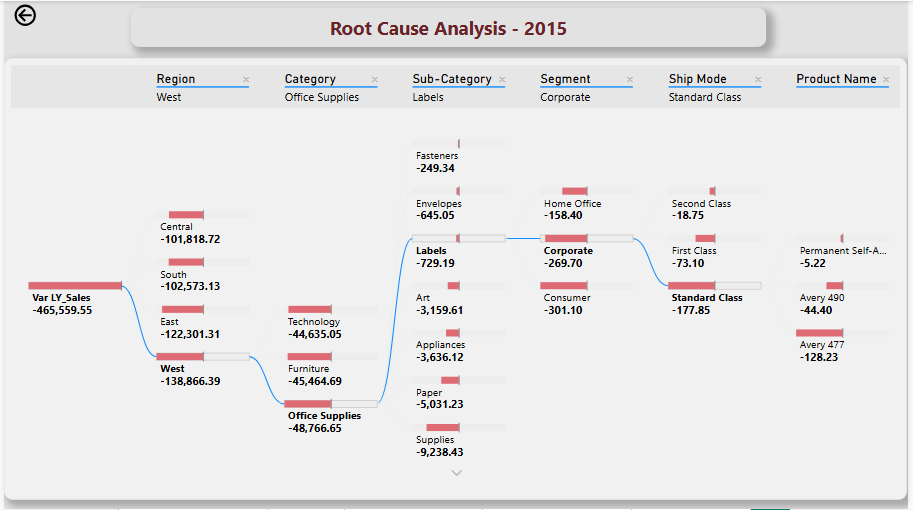

This screenshot's page, from the dashboard's own definition file:
{"tool":"powerbi","page":{"name":"Root Cause Analysis","canvas":[1280,720],"ordinal":3},"visuals":[{"type":"actionButton","box":[10.1,0,89.3,40.3],"z":0},{"type":"actionButton","box":[180,10.1,900,54.7],"z":1000},{"type":"decompositionTreeVisual","fields":{"ExplainBy":["Dim_Region.Region","Dim_Products.Category","Dim_Products.Sub-Category","Dim_Customers.Segment","Fact_Orders.Ship Mode","Dim_Products.Product Name"],"Analyze":["All_Measures.Var LY_Sales"]},"box":[0,80.8,1279.8,626.5],"z":2000}]}

Visuals, with their boxes in screenshot pixels (x1, y1, x2, y2), scaled from the page's 1280x720 canvas onto the 913x510 screenshot:
actionButton: <box>7,0,71,29</box>
actionButton: <box>128,7,770,46</box>
decompositionTreeVisual - Dim_Region.Region x Dim_Products.Category: <box>0,57,912,501</box>
